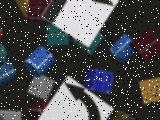Left: (38, 75, 114, 120)
Right: (41, 0, 119, 47)
